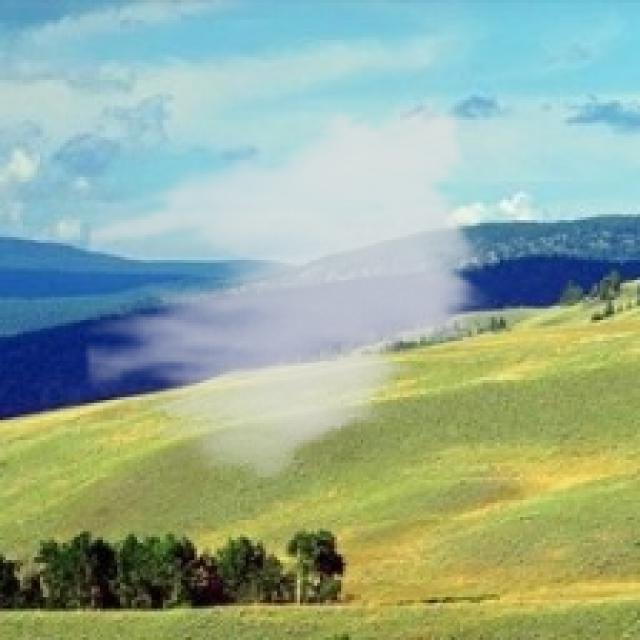smoke: (86, 83, 497, 491)
